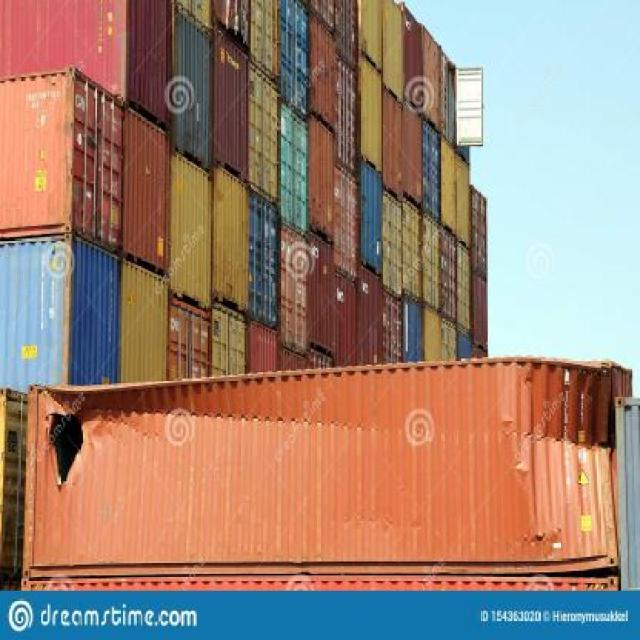Deframe: (32, 357, 243, 400), (539, 355, 625, 425)
Dent: (82, 404, 329, 431)
Hole: (42, 409, 86, 494), (599, 368, 616, 462)
Minor-Dent: (599, 448, 619, 568), (522, 526, 562, 560), (512, 460, 528, 474)
